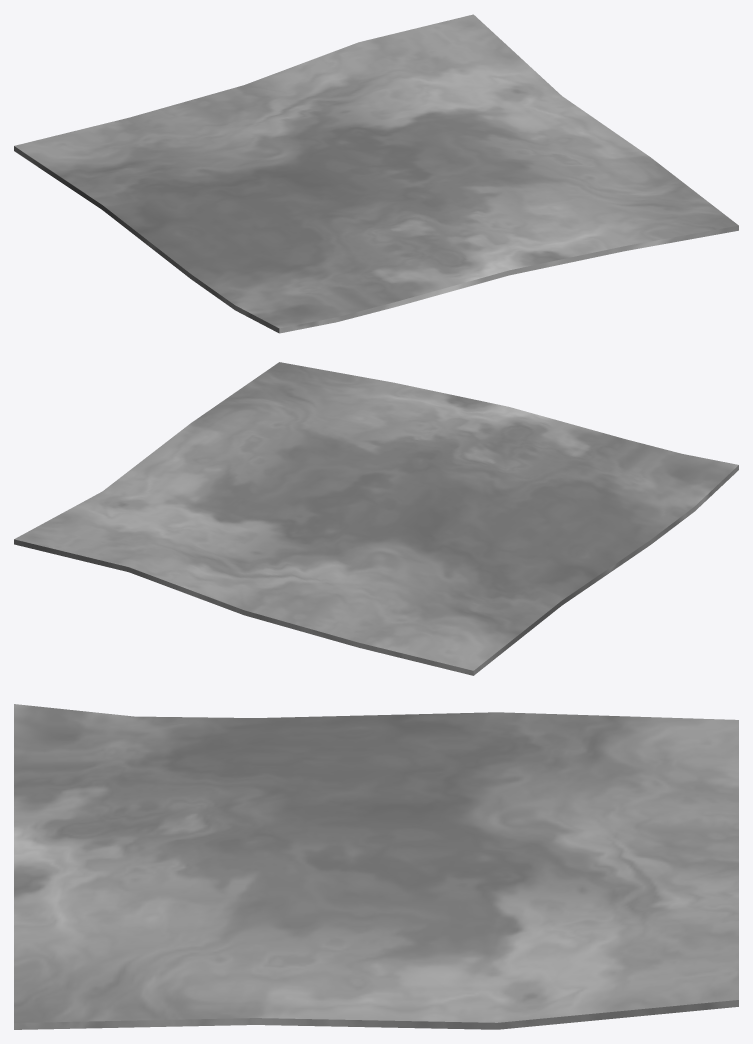
The model's file is SM_napkins.fbx.
The picture shows the model from 3 angles, top to bottom: view 1: azimuth 30°, elevation 25°; view 2: azimuth 150°, elevation 25°; view 3: azimuth 270°, elevation 25°; orthographic projection. The views are drawn at different scales.
Parts seen in each view (by area): view 1: SM_napkins; view 2: SM_napkins; view 3: SM_napkins.
Boxes of the visible parts, <box> form: SM_napkins: <box>14,14,738,333</box>; SM_napkins: <box>14,362,738,675</box>; SM_napkins: <box>14,704,738,1029</box>.
Bounding box in the file's own units: 13.08 × 13.08 × 0.7764.
Materials: 1 (1 with a texture image).
